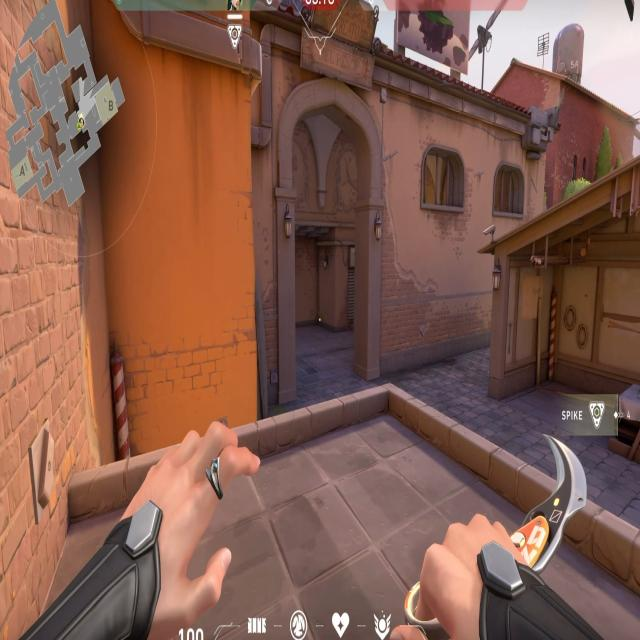B_Garage_Left: (481, 242, 610, 416)
Throwables: (416, 136, 470, 226), (485, 152, 531, 228)
